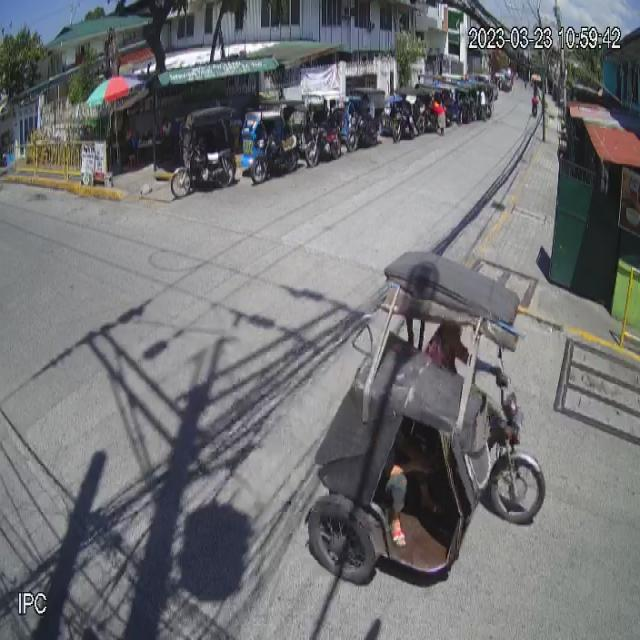Tricycle: (303, 250, 546, 584)
